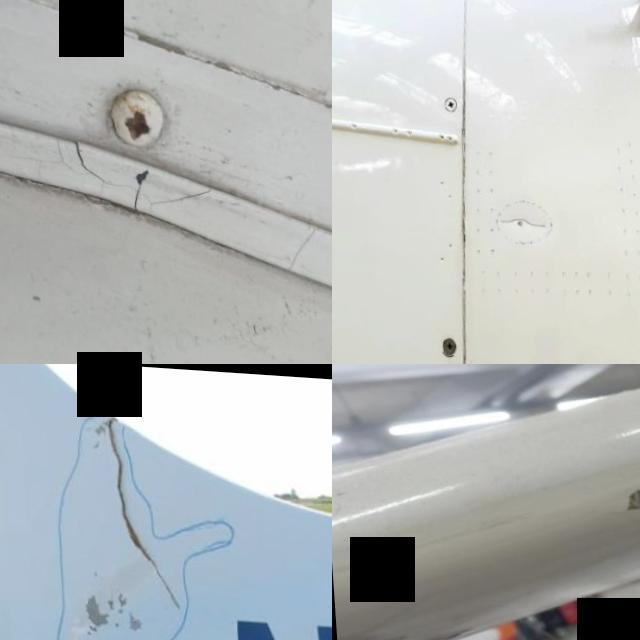Crack: (0, 63, 332, 286), (101, 404, 182, 615), (595, 478, 640, 524), (498, 211, 546, 227)
